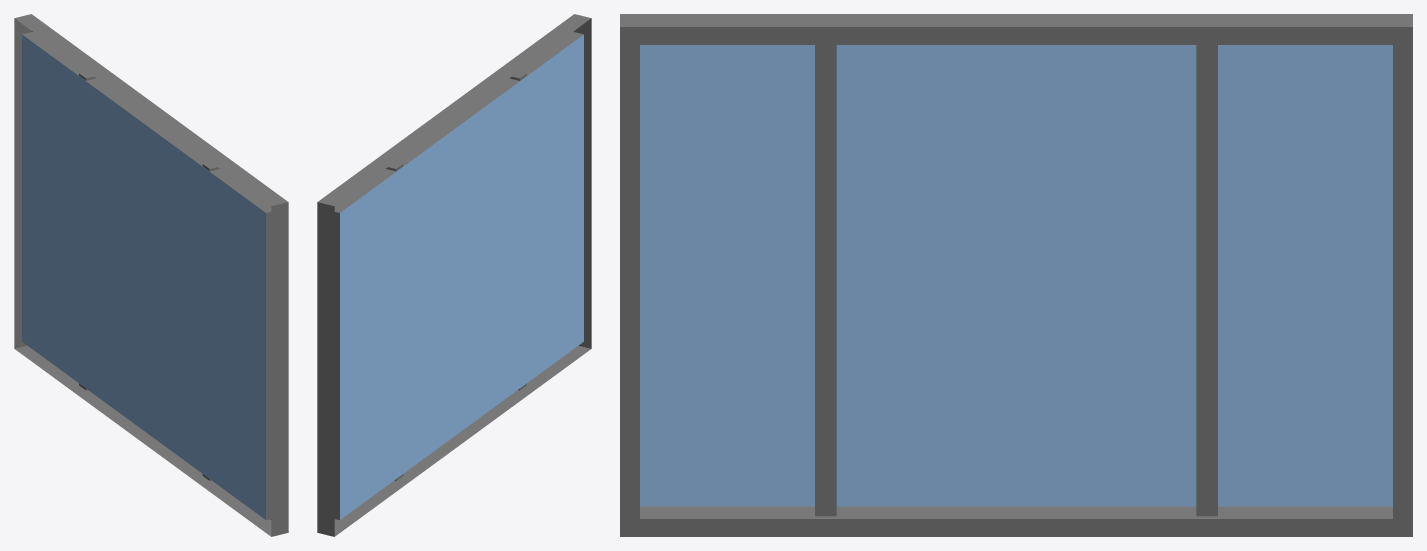
The model's file is P_Window_07.dae.
3 views of the same model, side by side, from view 1: azimuth 30°, elevation 25°; view 2: azimuth 150°, elevation 25°; view 3: azimuth 270°, elevation 25° (orthographic). The views are drawn at different scales.
Visible parts, largest first — view 1: Window_07; view 2: Window_07; view 3: Window_07.
Part boxes in pixels (bbox=[...]): Window_07: bbox=[14, 14, 288, 536]; Window_07: bbox=[317, 14, 591, 536]; Window_07: bbox=[620, 14, 1412, 536].
Bounding box in the file's own units: 0.0994 × 2.58 × 1.83.
